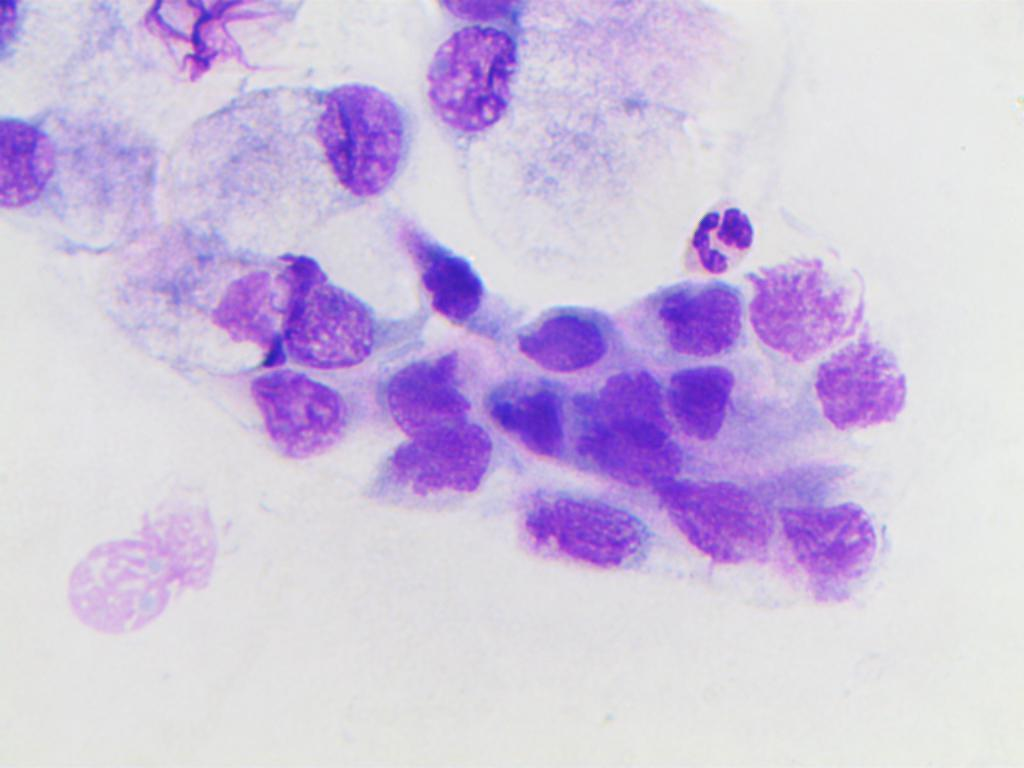epithelial: (506, 494, 660, 603), (740, 236, 867, 363), (228, 364, 357, 471), (653, 475, 776, 573), (390, 219, 491, 334), (774, 496, 879, 605), (807, 334, 912, 440), (632, 273, 743, 366), (494, 290, 606, 378), (661, 354, 753, 448), (591, 407, 686, 496), (386, 349, 471, 437)
goblet_cell: (414, 19, 654, 207), (114, 248, 379, 370), (199, 78, 410, 215), (2, 103, 149, 250)
neutrophil: (669, 196, 763, 282)
